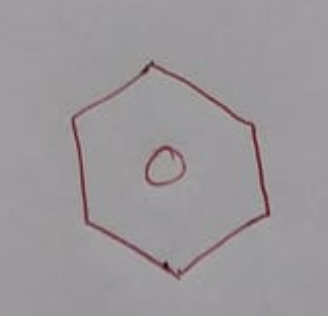shape_mask: (57, 50, 288, 294)
